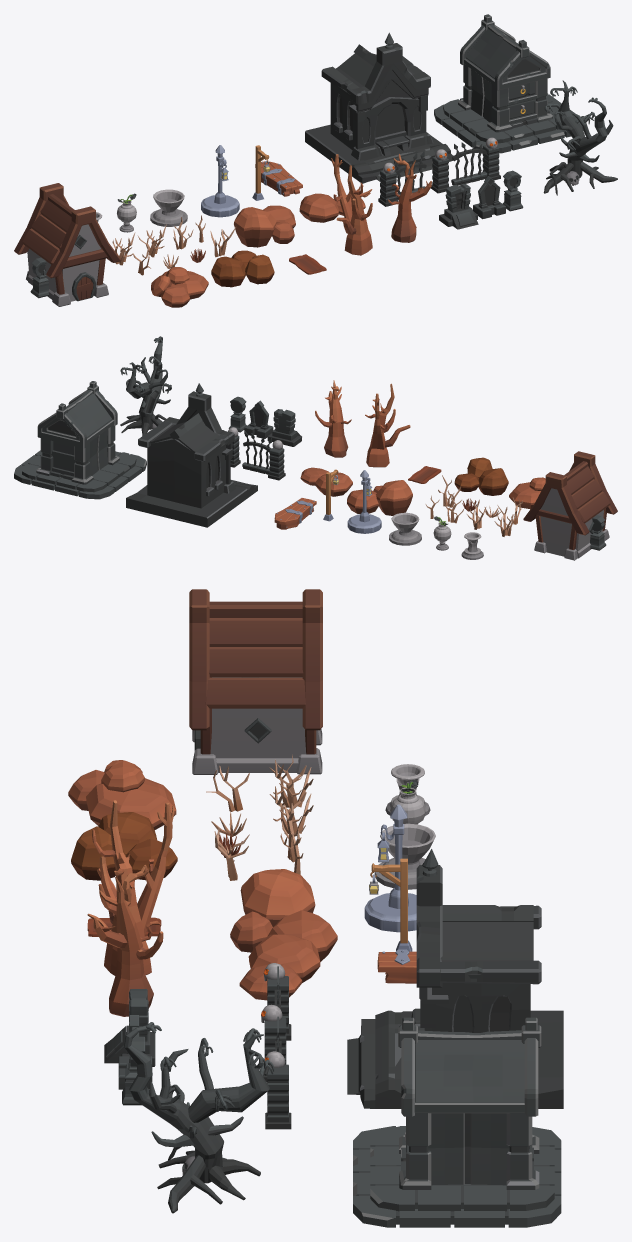
File: GraveAndDessertAsset.fbx
The picture shows the model from 3 angles, top to bottom: view 1: azimuth 30°, elevation 25°; view 2: azimuth 150°, elevation 25°; view 3: azimuth 270°, elevation 25°; orthographic projection. The views are drawn at different scales.
Parts seen in each view (by area): view 1: Cube.209, Cube.167, Cube.245, Cube.197, Cube.134, Cube.263, Cube.163, Cube.153, Cube.229, Cube.131, Cube.230, Cube.260 (+33 smaller); view 2: Cube.261, Cube.209, Cube.245, Cube.158, Cube.262, Cube.134, Cube.163, Cube.214, Cylinder.065, Cube.172, Cube.256, Cube.257 (+36 smaller); view 3: Cube.206, Cube.255, Cube.244, Cube.210, Cube.254, Cube.195, Cube.251, Cylinder.065, Cube.134, Cube.246, Cube.197, Cube.158 (+41 smaller).
Part boxes in pixels (x1,y1,x2,y2): Cube.209: (22,200,71,264); Cube.167: (345,83,404,145); Cube.245: (305,125,380,183); Cube.197: (46,206,121,278); Cube.134: (234,207,277,247); Cube.263: (343,116,397,160); Cube.163: (331,44,376,96); Cube.153: (299,193,338,222); Cube.229: (463,118,534,143); Cube.131: (211,256,245,287); Cube.230: (456,129,552,153); Cube.260: (389,106,433,148); Cube.261: (174,461,213,508); Cube.209: (567,466,610,523); Cube.245: (187,482,257,527); Cube.158: (523,472,589,535); Cube.262: (147,460,174,501); Cube.134: (376,480,412,515); Cube.163: (174,413,229,453); Cube.214: (540,516,571,556); Cylinder.065: (121,382,170,435); Cube.172: (174,439,213,477); Cube.256: (42,476,128,499); Cube.257: (55,469,119,492); Cube.206: (205,618,305,708); Cube.255: (370,1166,554,1211); Cube.244: (441,905,533,978); Cube.210: (210,708,306,757); Cube.254: (353,1182,561,1227); Cube.195: (415,1040,473,1102); Cube.251: (472,1040,524,1102); Cylinder.065: (151,1099,260,1200); Cube.134: (240,869,315,926); Cube.246: (347,1064,563,1108); Cube.197: (189,589,209,730); Cube.158: (302,589,322,730).
Size of the model in its own units: 3300 by 723 by 1366.
Materials: 2 (2 with a texture image).
